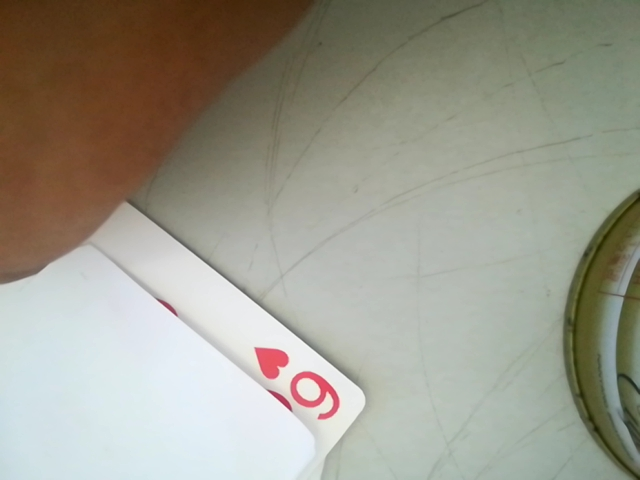hx 6: (240, 341, 357, 429)
